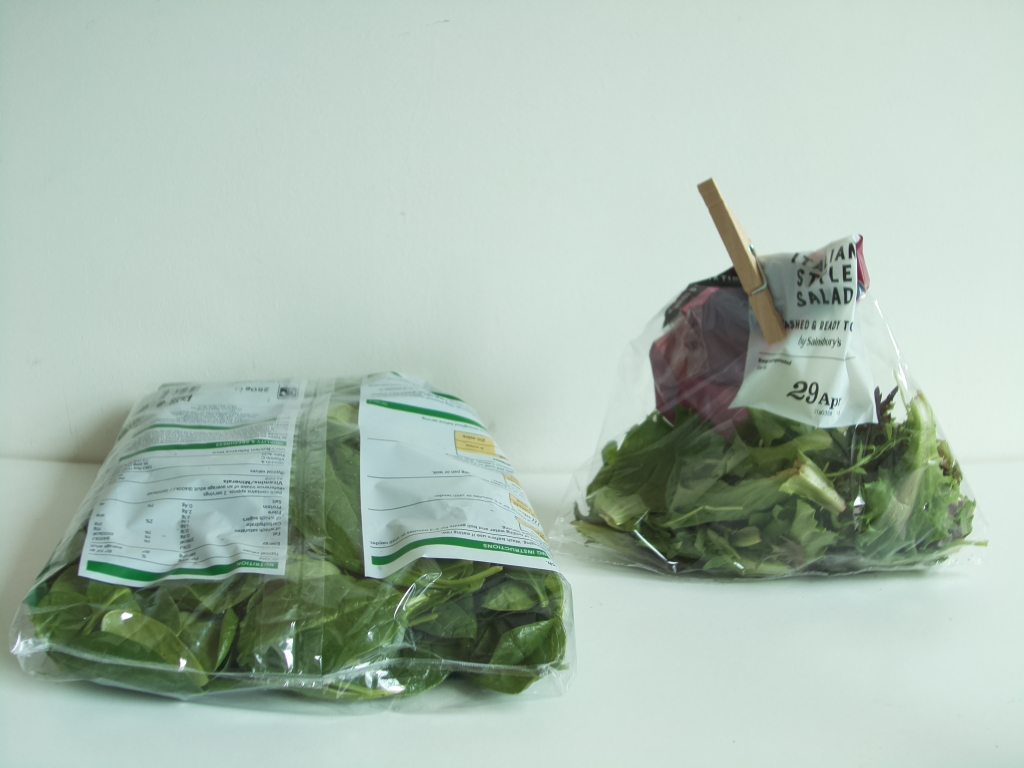salad: (17, 377, 570, 710), (575, 242, 973, 582)
